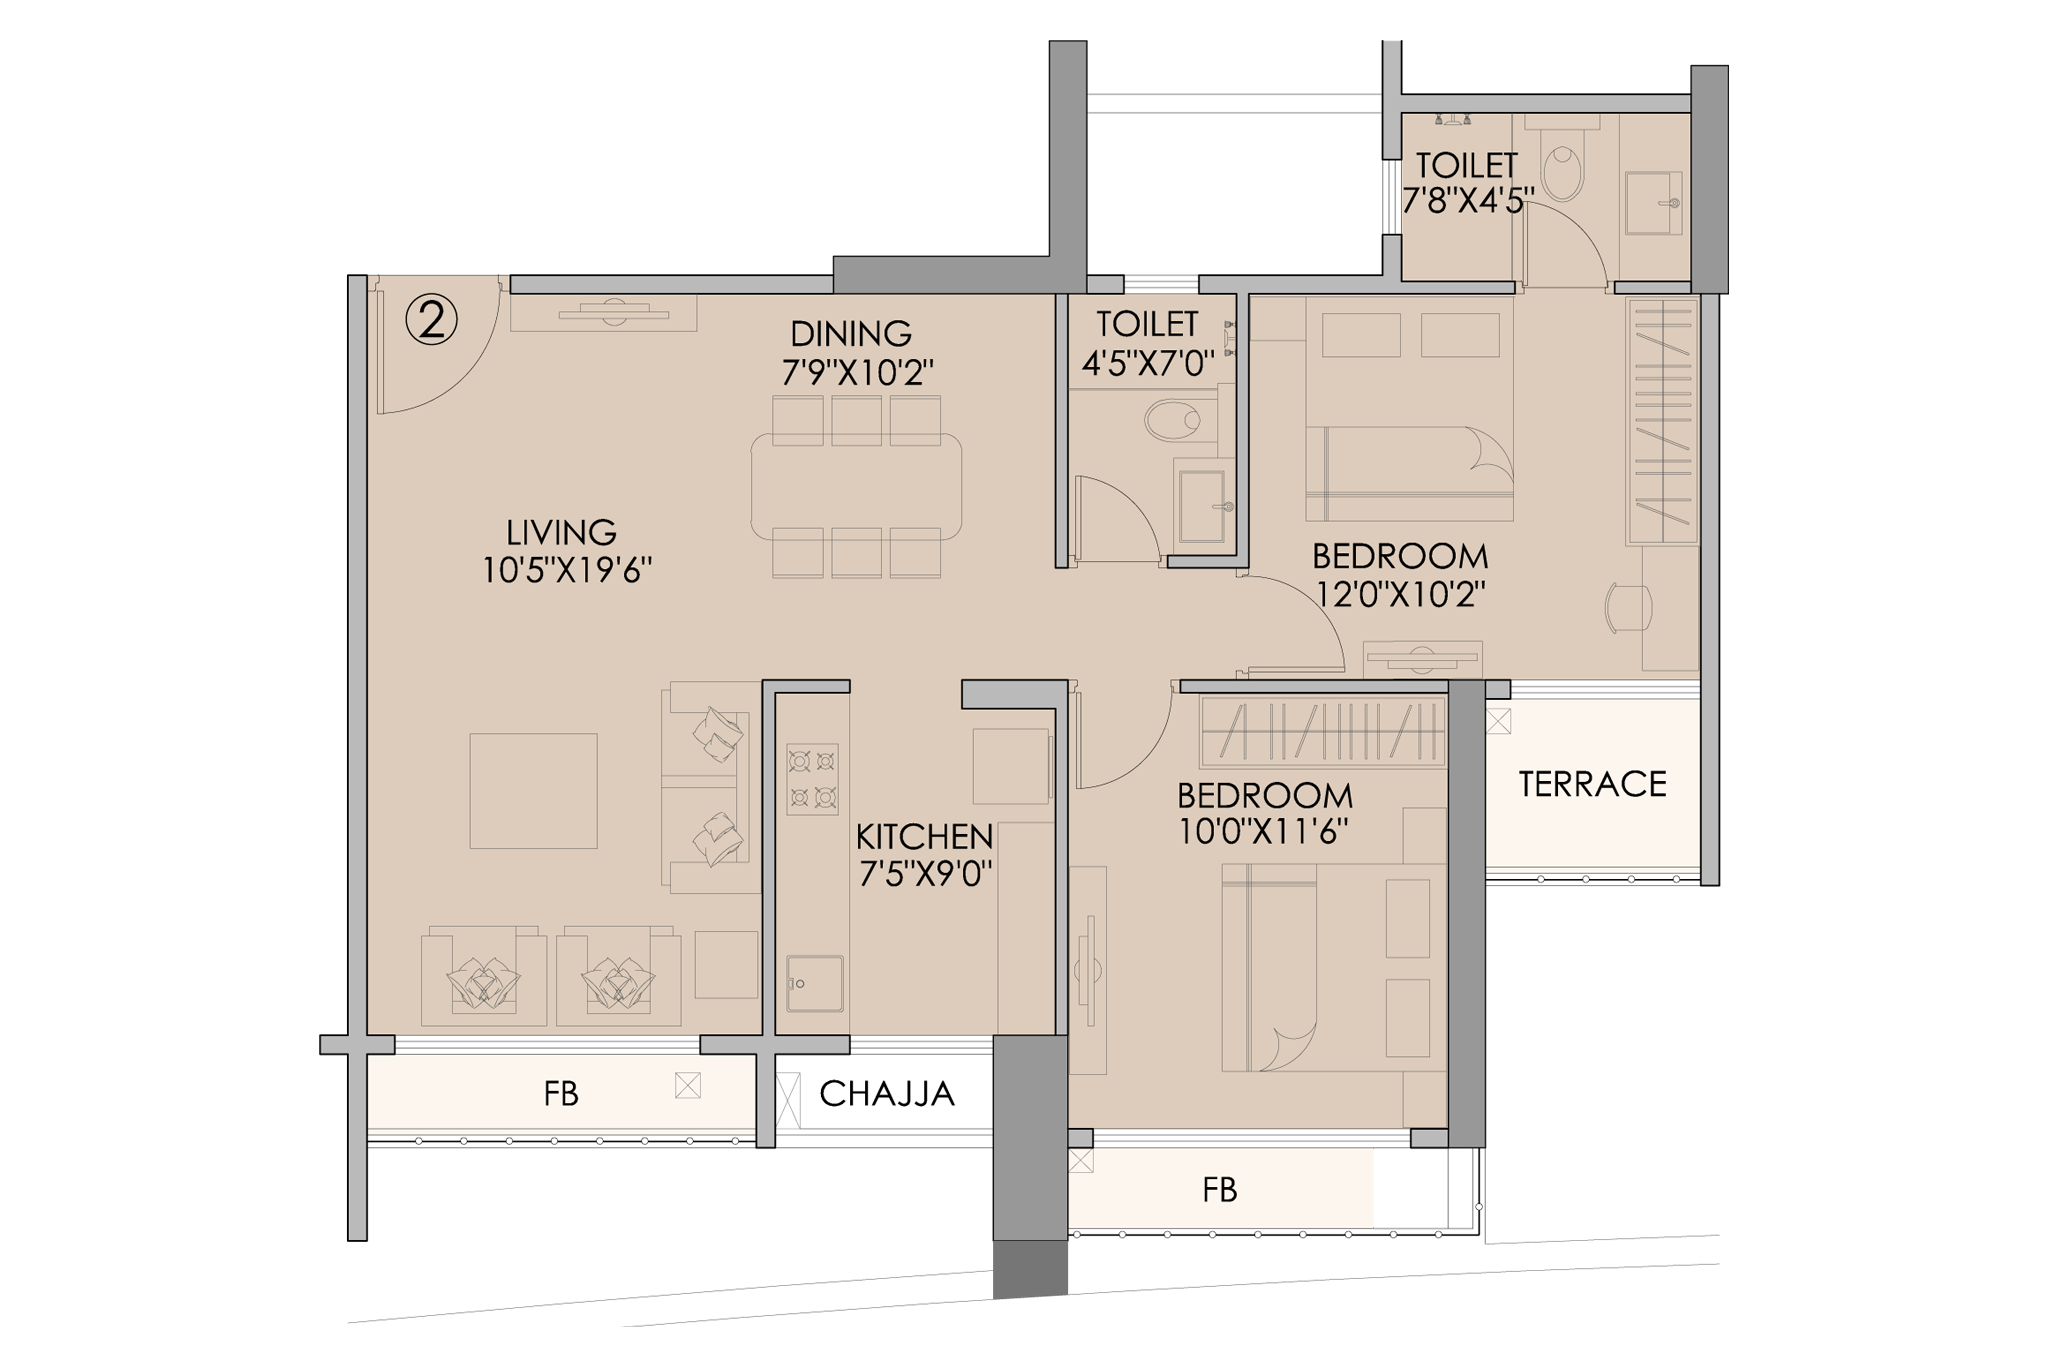wall: (346, 273, 370, 1235), (1451, 685, 1493, 1154), (1000, 1038, 1064, 1296), (756, 681, 777, 1150), (843, 252, 1112, 287), (1045, 681, 1071, 1034), (1051, 46, 1083, 296), (1704, 316, 1717, 884), (1403, 85, 1717, 107), (514, 273, 864, 290), (1698, 73, 1722, 293), (1178, 678, 1470, 697), (1231, 293, 1246, 566), (1381, 40, 1408, 156), (704, 1037, 850, 1057), (1205, 273, 1416, 287), (960, 681, 1067, 707), (1058, 290, 1067, 566), (318, 1031, 390, 1058), (763, 674, 847, 697), (1413, 277, 1518, 293), (1618, 277, 1691, 297), (1384, 235, 1400, 284), (1413, 1128, 1446, 1146), (1167, 558, 1240, 566), (1070, 1128, 1093, 1145)
